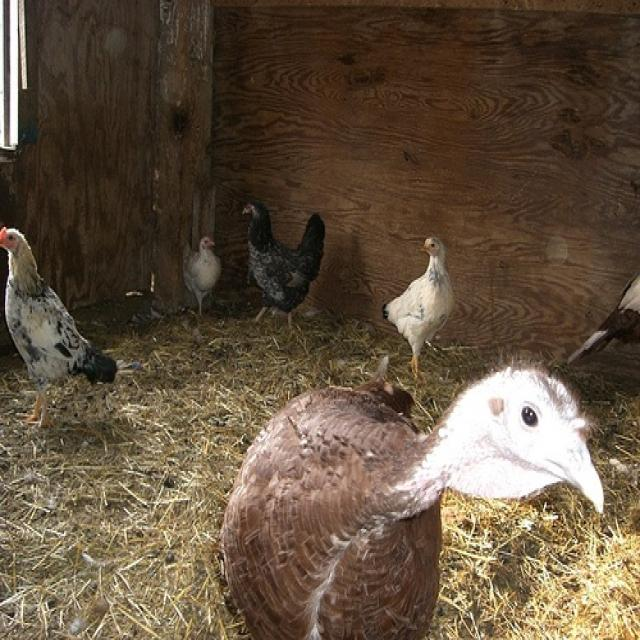bird: (222, 356, 606, 632), (0, 224, 118, 425), (240, 196, 326, 338), (382, 236, 454, 376), (567, 275, 639, 377), (183, 237, 220, 319)
